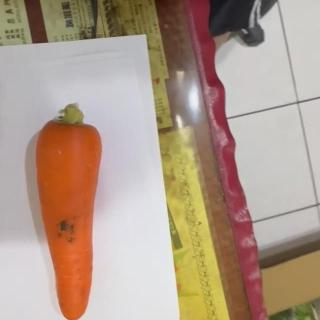carrot: (33, 100, 103, 320)
